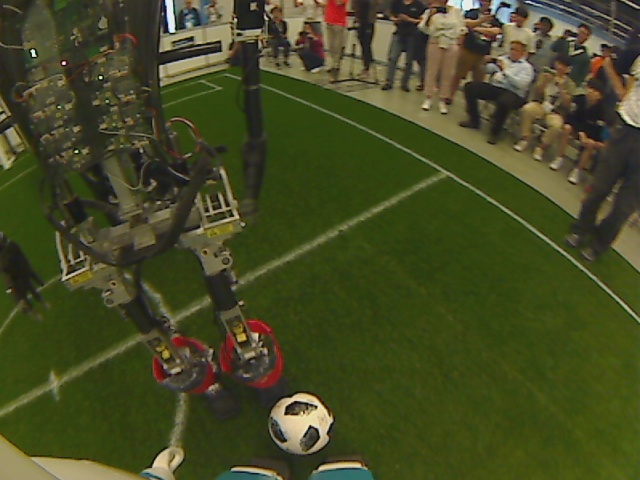ball: (266, 390, 332, 457)
